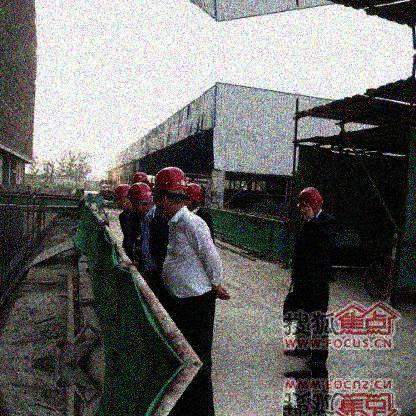helmet: (153, 167, 188, 216), (295, 185, 324, 218), (129, 182, 153, 215), (181, 183, 203, 210), (113, 183, 131, 212)
